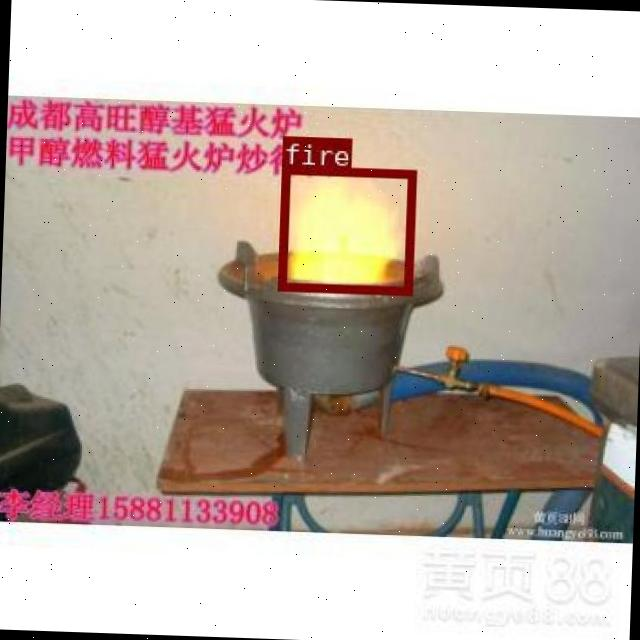fire: (277, 163, 414, 294)
